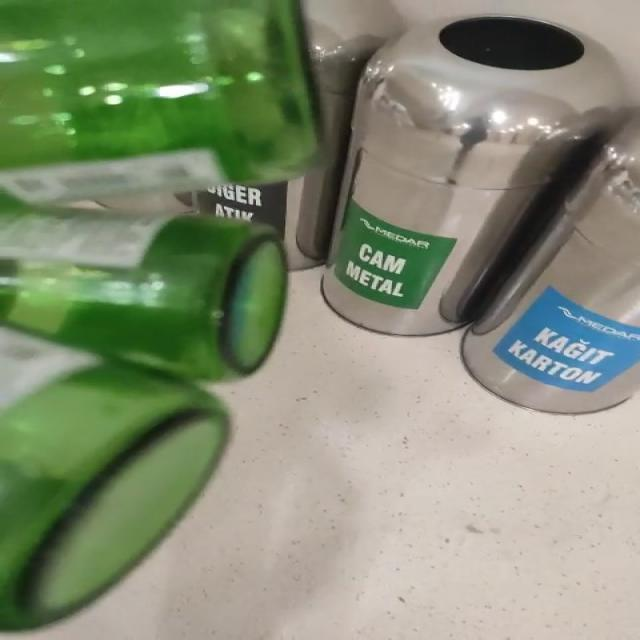Glass: (0, 0, 317, 632)
